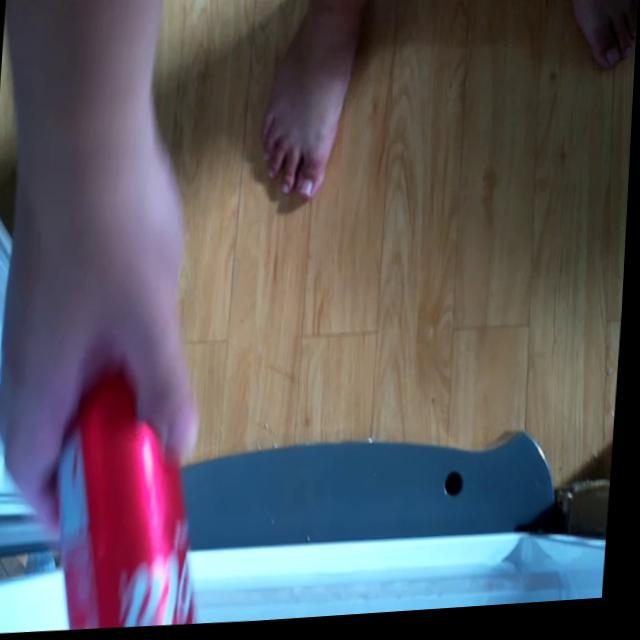coke: (50, 360, 221, 635)
